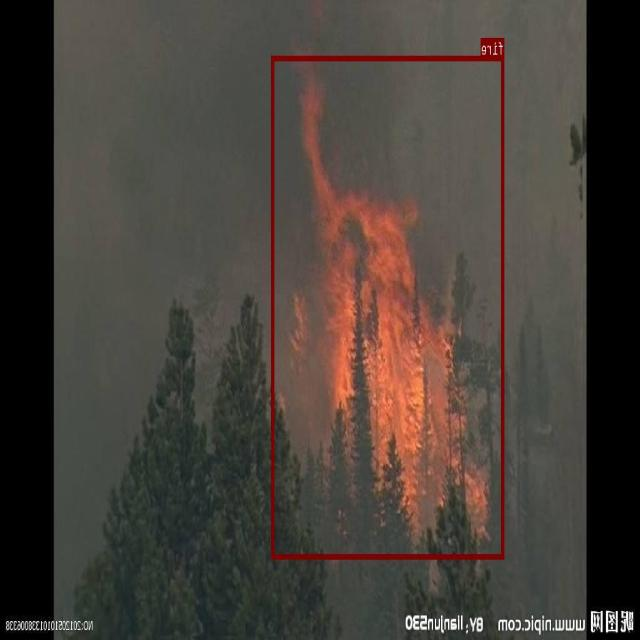fire: (272, 55, 504, 558)
